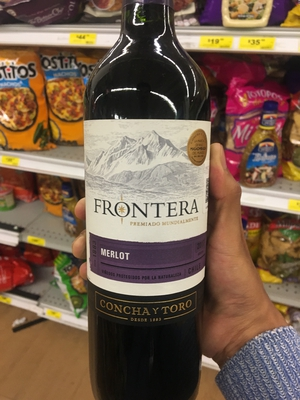frontera merlot: (77, 9, 219, 398)
